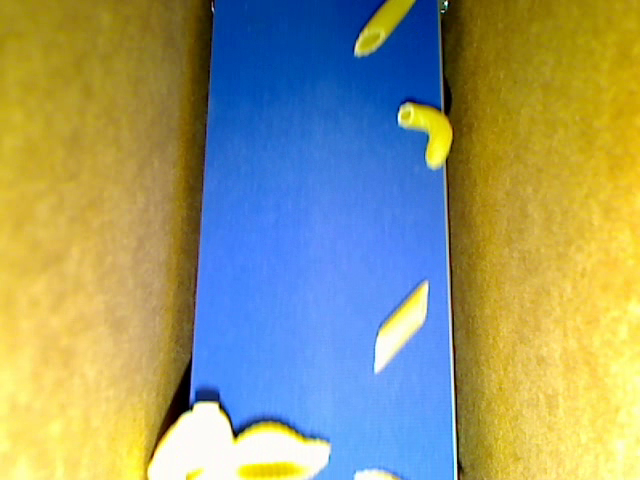elbow: (396, 100, 453, 170)
penne: (372, 278, 428, 374), (354, 1, 416, 57)
shell: (209, 421, 329, 479)
tortellini: (146, 403, 235, 479)
